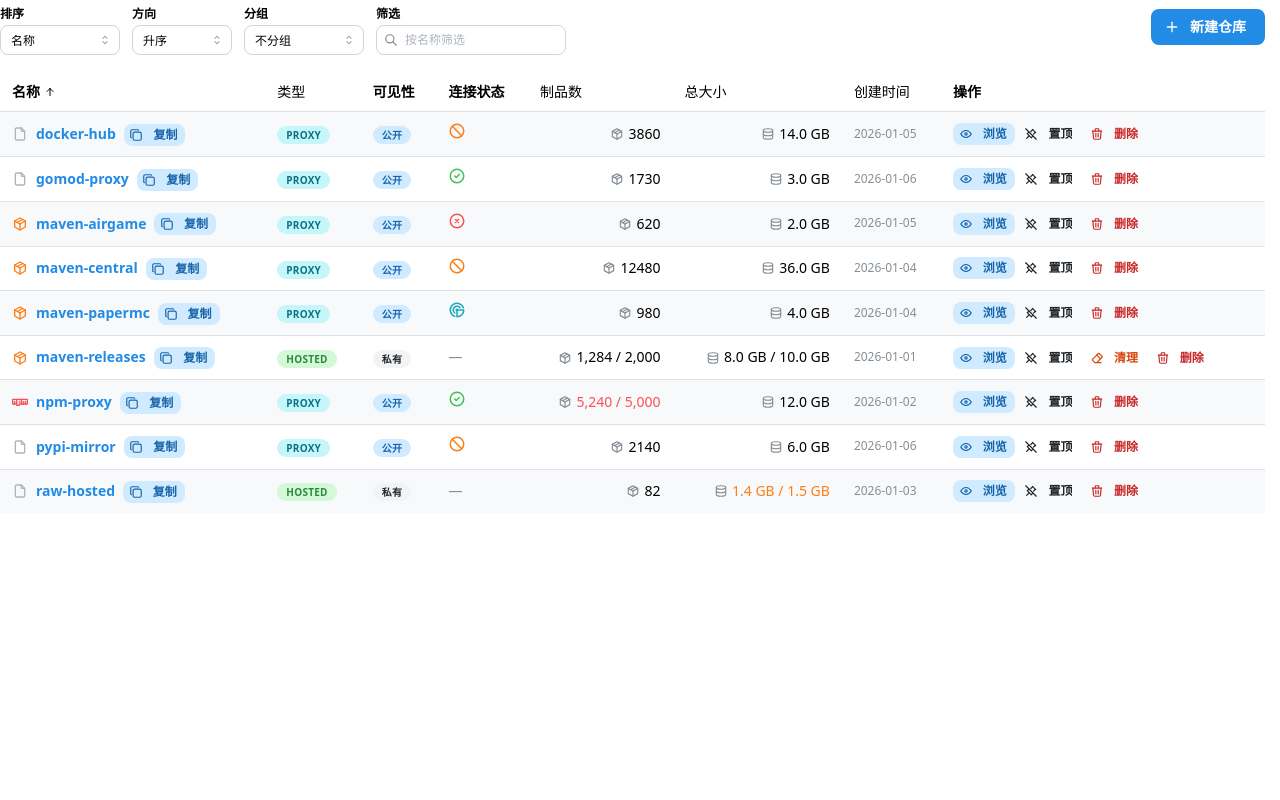
it: 仓库管理 › 备用只读拒绝新建仓库时保留已填写内容
Expected: the text "raw-hosted" is shown, top-left (36, 481), bottom-right (115, 501)
Step 1. Click the button "新建仓库" → (1208, 27), box top-left (1151, 9), bottom-right (1265, 45)
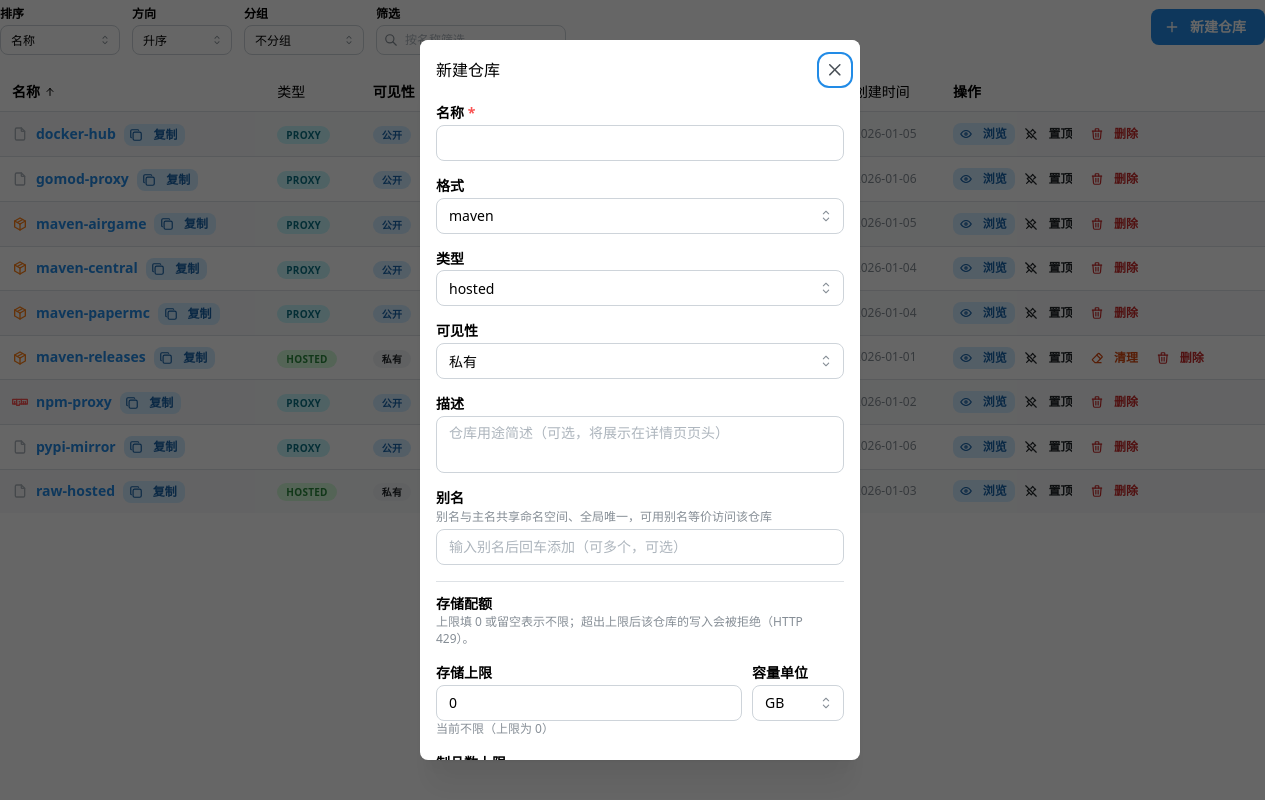
Step 2. Type "standby-rejected" into the field labelled "名称 *" → (640, 143), box top-left (436, 125), bottom-right (844, 161)
(page scrolled)
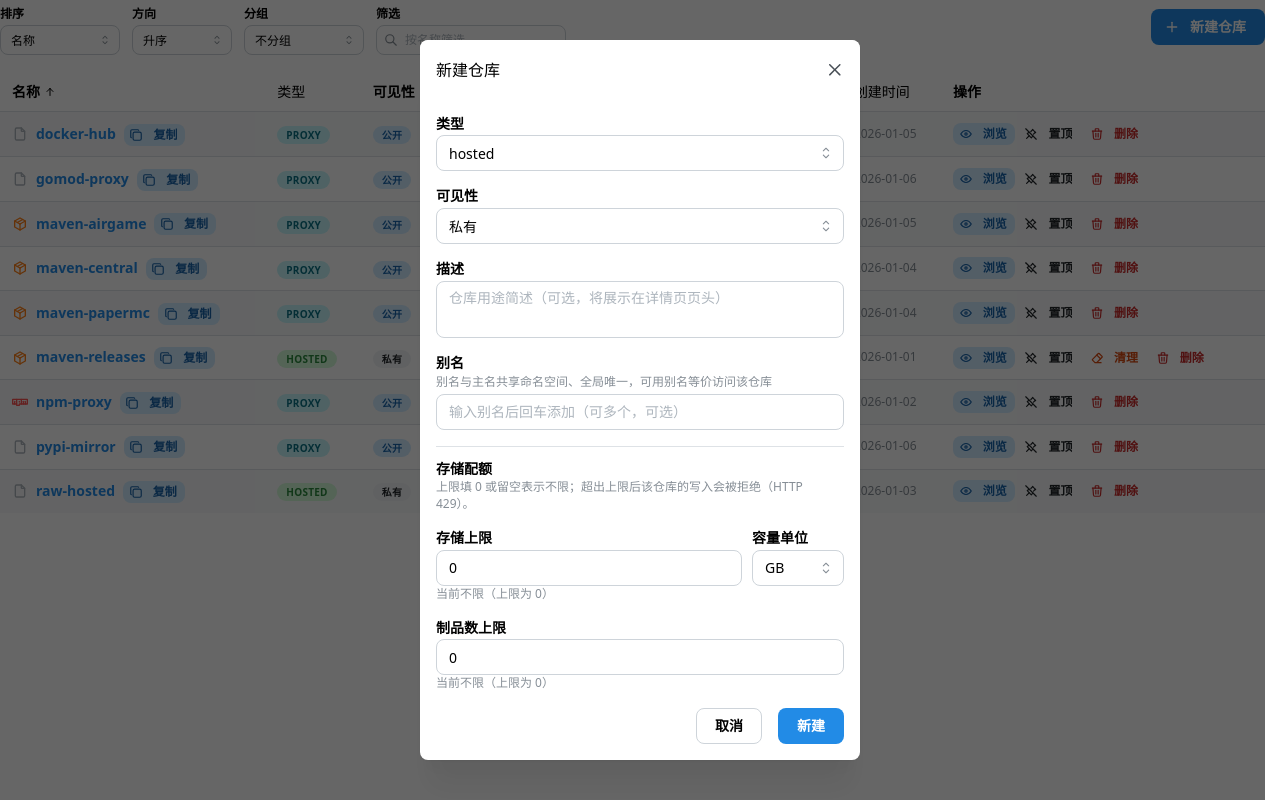
Step 3. Click the button "新建" → (811, 726), box top-left (778, 708), bottom-right (844, 744)
(page scrolled)
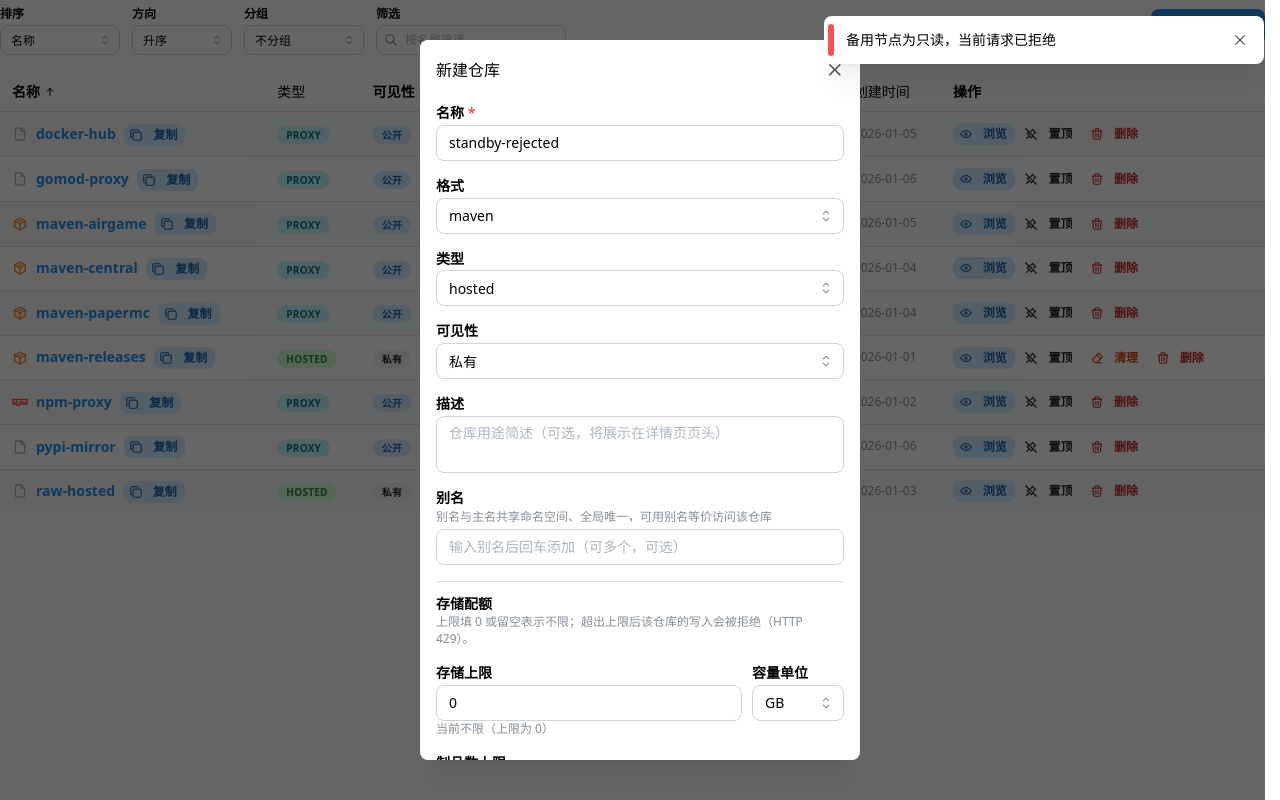
Now the text "备用节点为只读，当前请求已拒绝" is shown, box top-left (846, 30), bottom-right (1056, 49)
